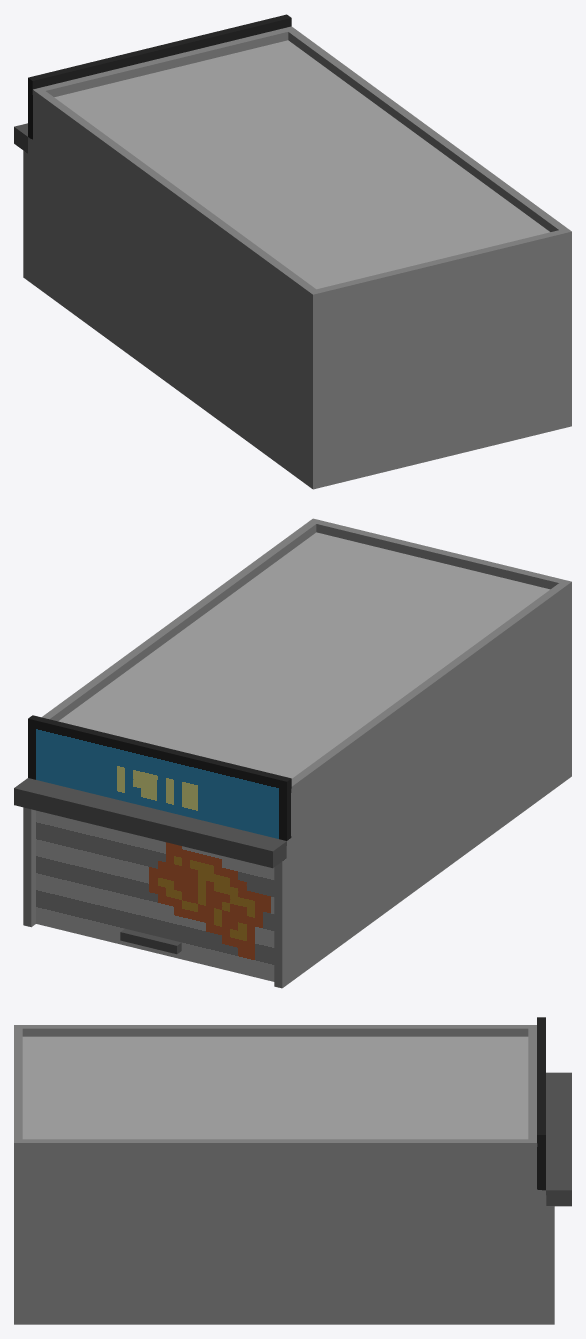
Rendered from obj_store10.fbx.
3 renders of one model, top to bottom at view 1: azimuth 30°, elevation 25°; view 2: azimuth 150°, elevation 25°; view 3: azimuth 270°, elevation 25°, orthographic. The views are drawn at different scales.
Visible parts, largest first — view 1: obj_store10; view 2: obj_store10; view 3: obj_store10.
Part boxes in pixels (x1,y1,x2,y2): obj_store10: [14, 14, 571, 489]; obj_store10: [14, 518, 571, 988]; obj_store10: [14, 1017, 571, 1324].
Bounding box in the file's own units: 3.2 × 6.4 × 2.4.
Materials: 1 (1 with a texture image).
